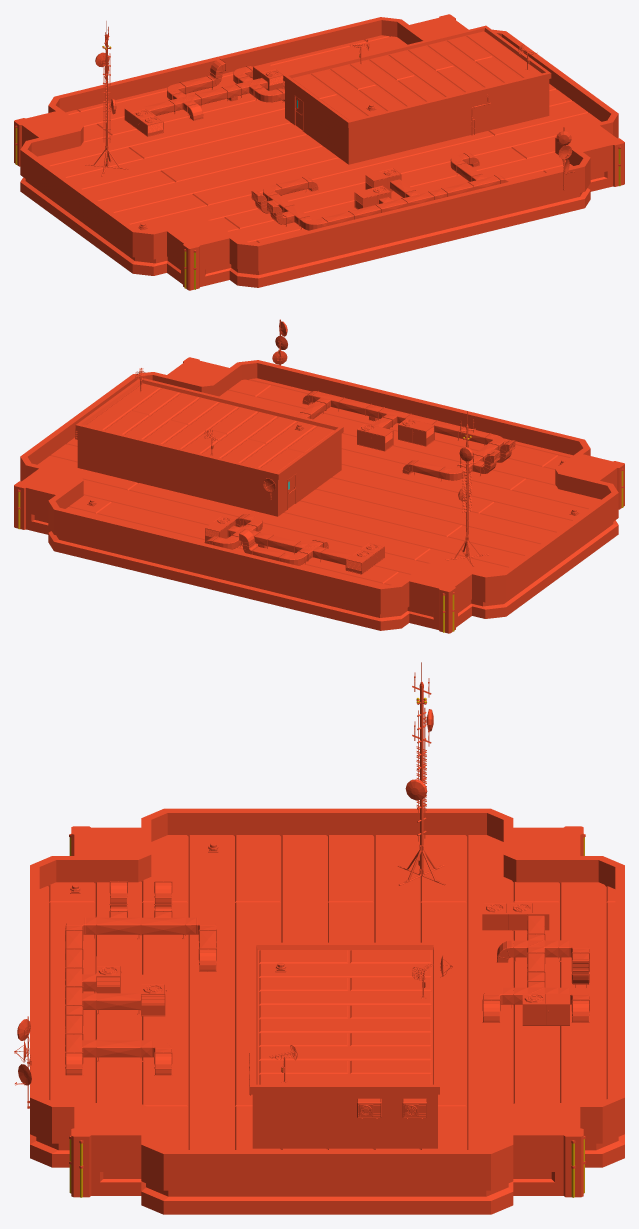
Rendered from SM_Skyscraper_A_Roof_Small_City.fbx.
3 views of the same model, one above another, from view 1: azimuth 30°, elevation 25°; view 2: azimuth 150°, elevation 25°; view 3: azimuth 270°, elevation 25° (orthographic). The views are drawn at different scales.
Visible parts, largest first — view 1: SM_Skyscraper_A_Roof_Small_City; view 2: SM_Skyscraper_A_Roof_Small_City; view 3: SM_Skyscraper_A_Roof_Small_City.
Part boxes in pixels (<box>): SM_Skyscraper_A_Roof_Small_City: <box>14,14,624,290</box>; SM_Skyscraper_A_Roof_Small_City: <box>14,319,624,633</box>; SM_Skyscraper_A_Roof_Small_City: <box>14,662,624,1214</box>.
Size of the model in its own units: 36.62 by 12.45 by 27.38.
